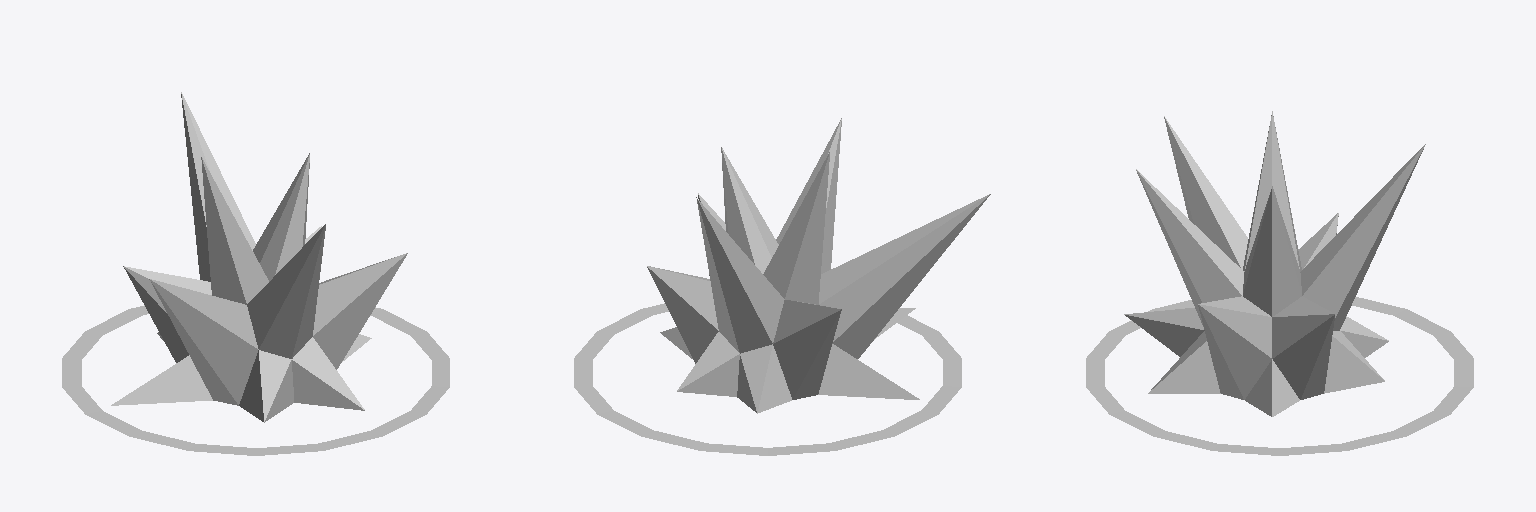
The model's file is explosion.obj.
3 renders of one model, left to right at view 1: azimuth 30°, elevation 25°; view 2: azimuth 150°, elevation 25°; view 3: azimuth 270°, elevation 25°, orthographic.
Visible parts, largest first — view 1: GeoSphere001; view 2: GeoSphere001; view 3: GeoSphere001.
Part boxes in pixels (x1,y1,x2,y2): GeoSphere001: (62,92,449,455); GeoSphere001: (574,118,990,455); GeoSphere001: (1086,111,1473,455).
Bounding box in the file's own units: 140 × 91.77 × 138.